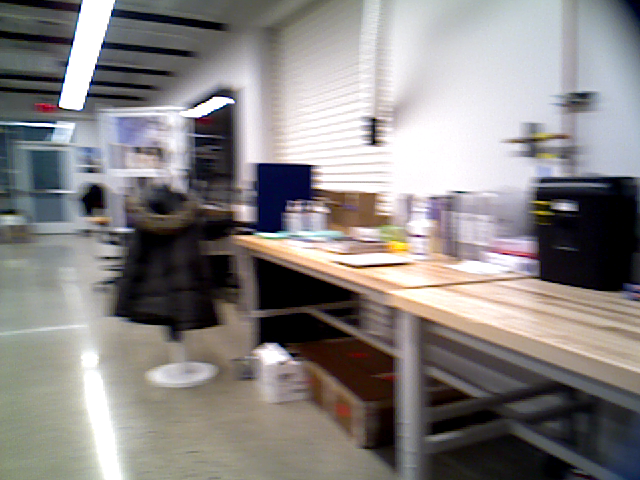painting3: (73, 144, 104, 177)
